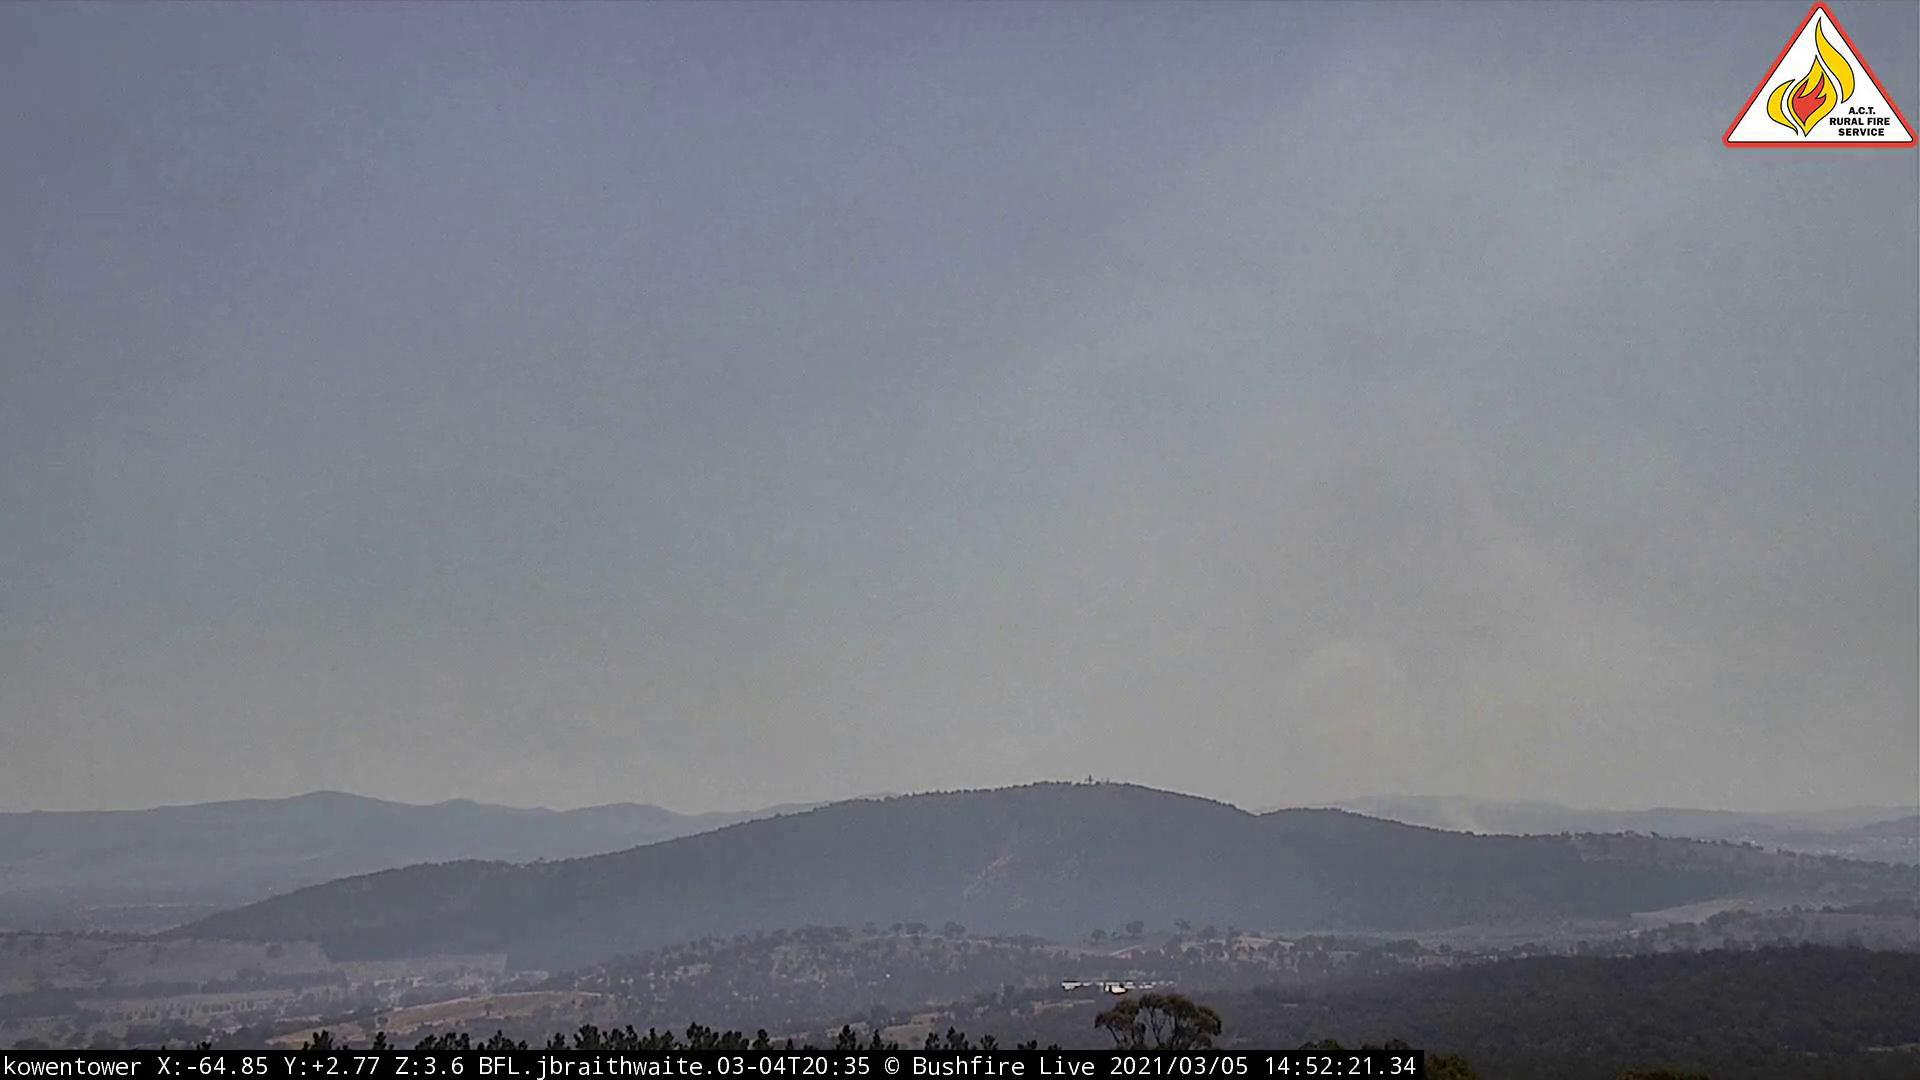Smoke: (1055, 378, 1668, 847)
